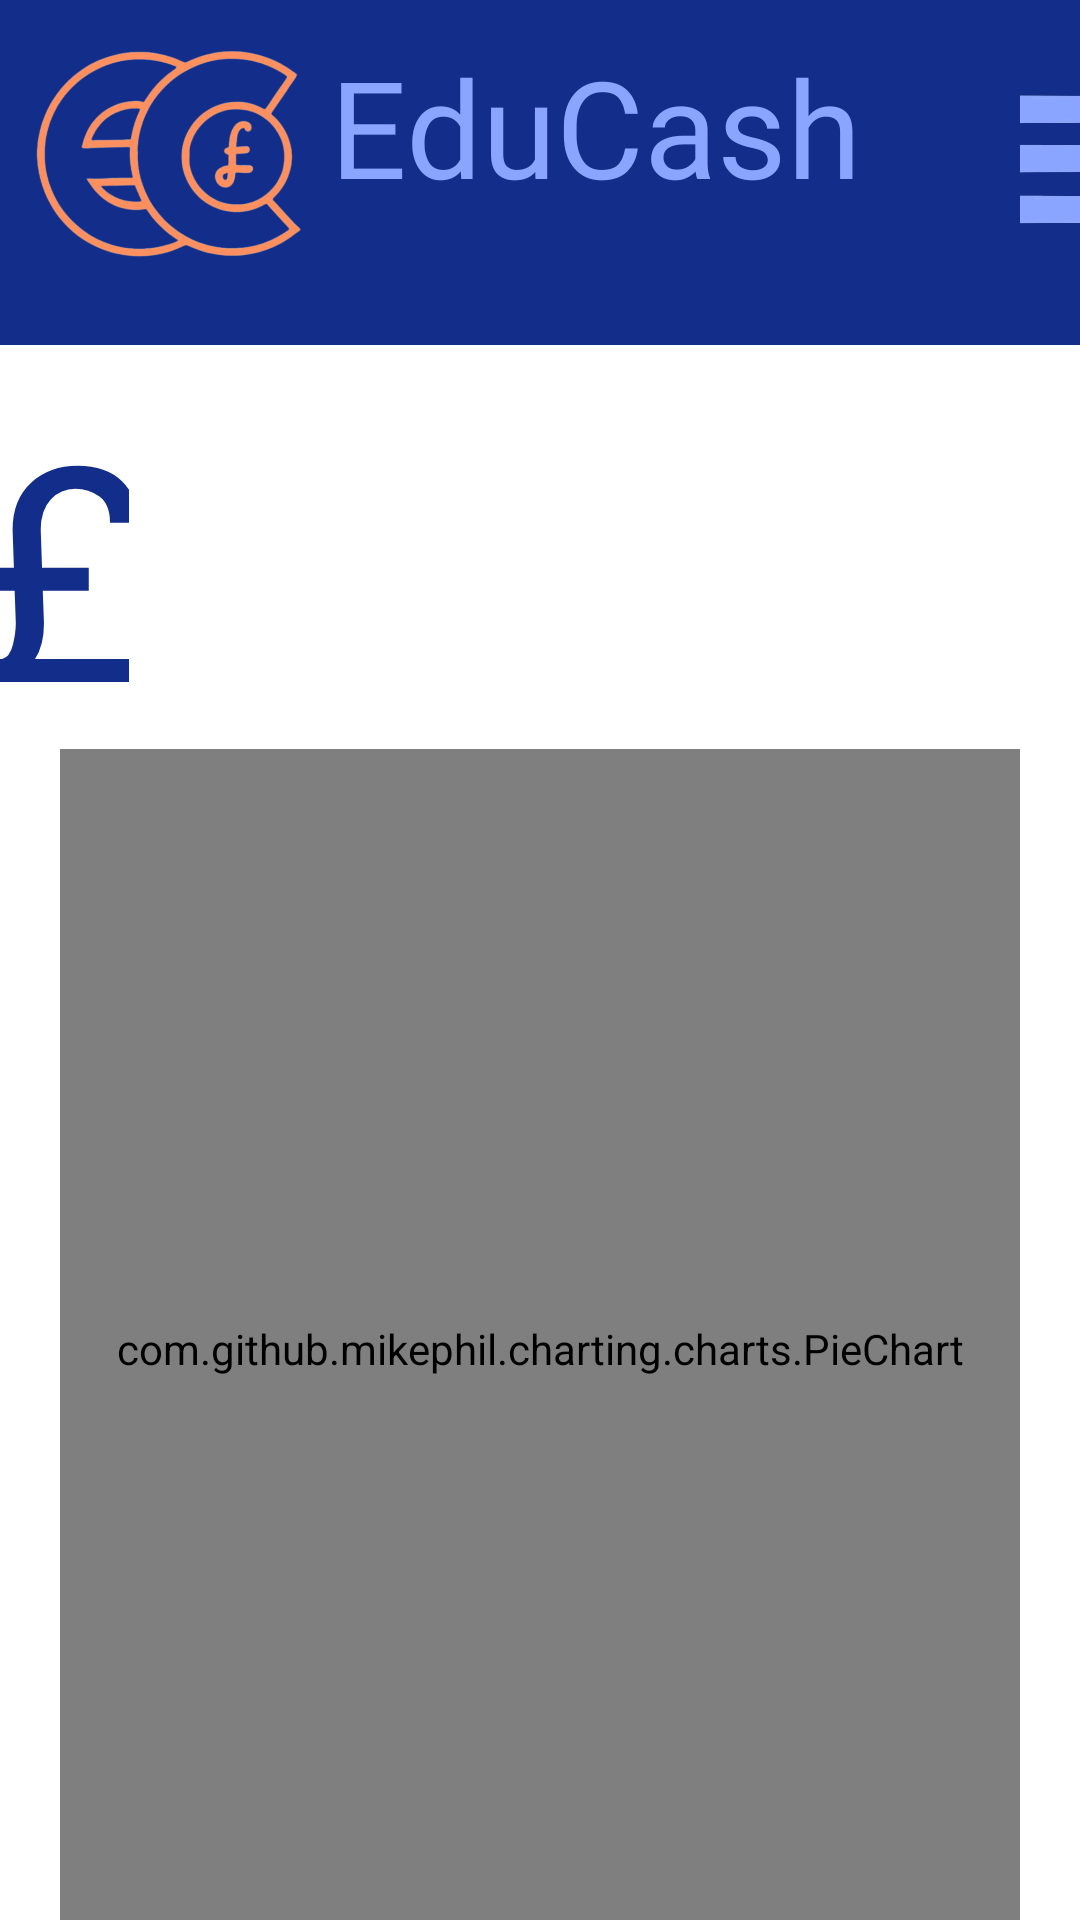

Where icons sit on this 1080x1920 app screen, as [x1=x1, y1=y1, x2=x2, y2=y2]:
menu: [x1=1020, y1=95, x2=1080, y2=223]
